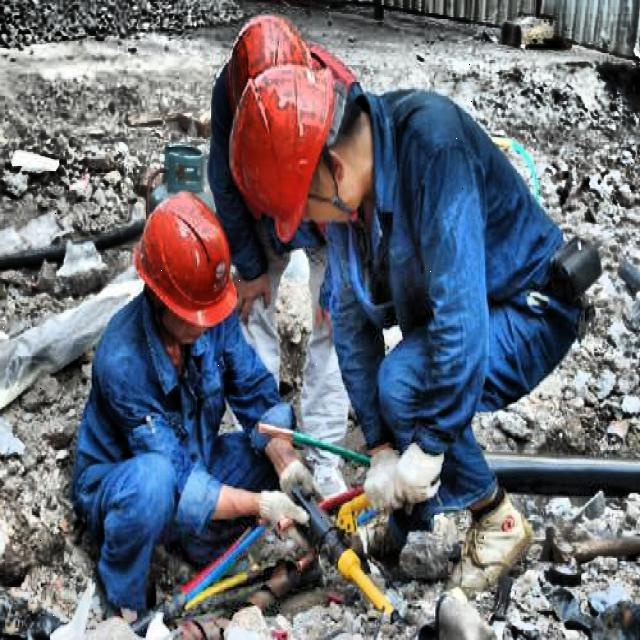helmet: (216, 64, 356, 240), (127, 180, 239, 350), (220, 7, 325, 116)
